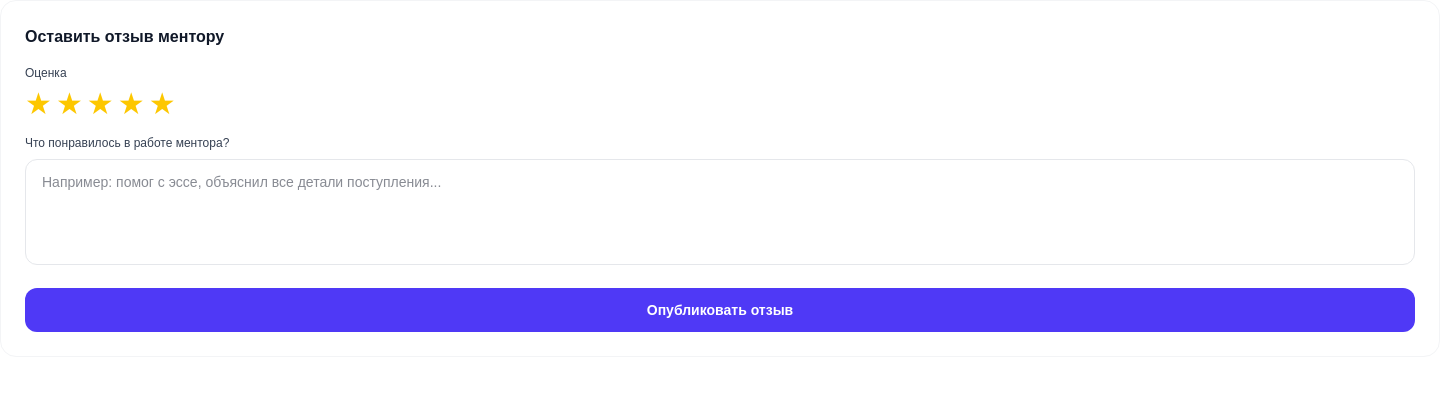
Test: ReviewForm › shows the server error message and stays on the form when submission fails
Expected: the button "Опубликовать отзыв" is shown, [25,288,1415,332]
Type "Really helpful sessions overall" into the text box with placeholder "Например: помог с эссе, объяснил все детали поступления...".
click(720, 212); type("Really helpful sessions overall")  # box [25,159,1415,265]
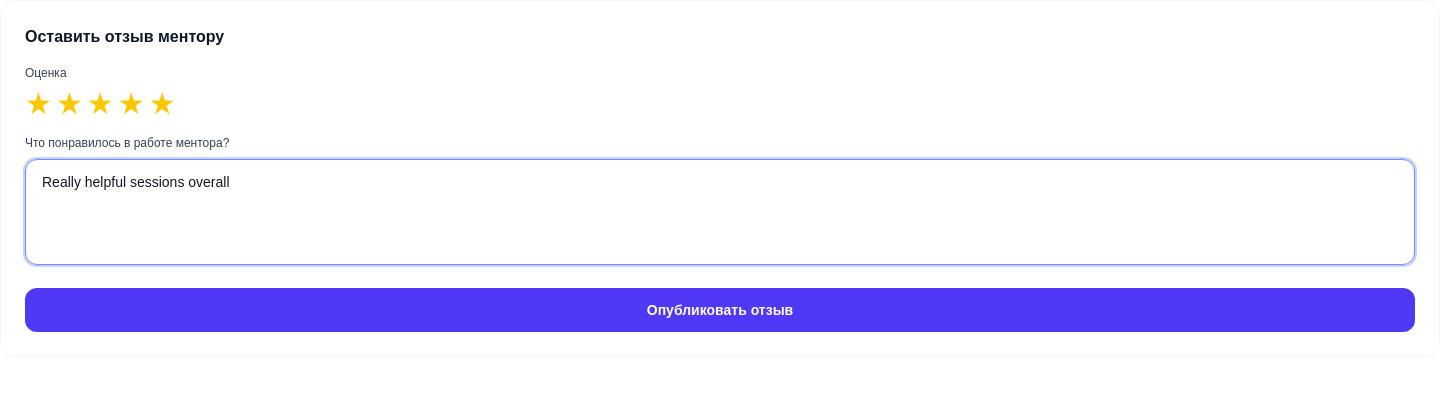
Click the button "Опубликовать отзыв".
click(720, 310)  # box [25,288,1415,332]
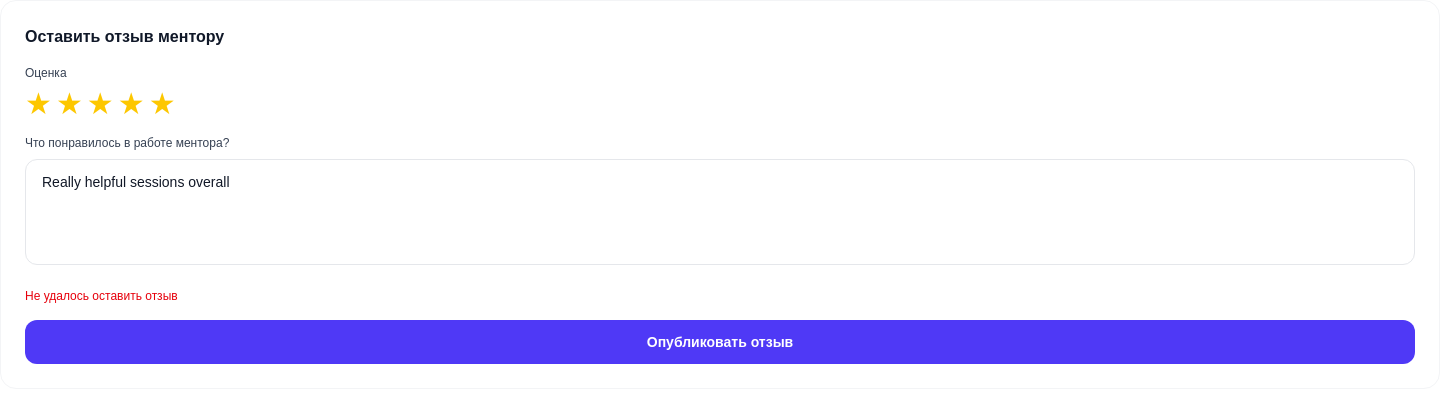
Expected: the text "Не удалось оставить отзыв" is shown, [25,289,178,303]
